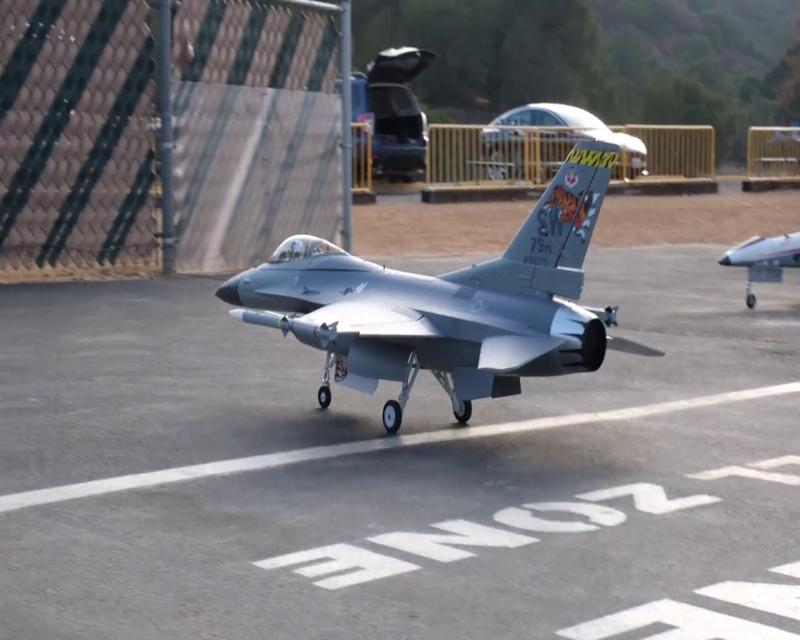UAV: (213, 138, 626, 434)
